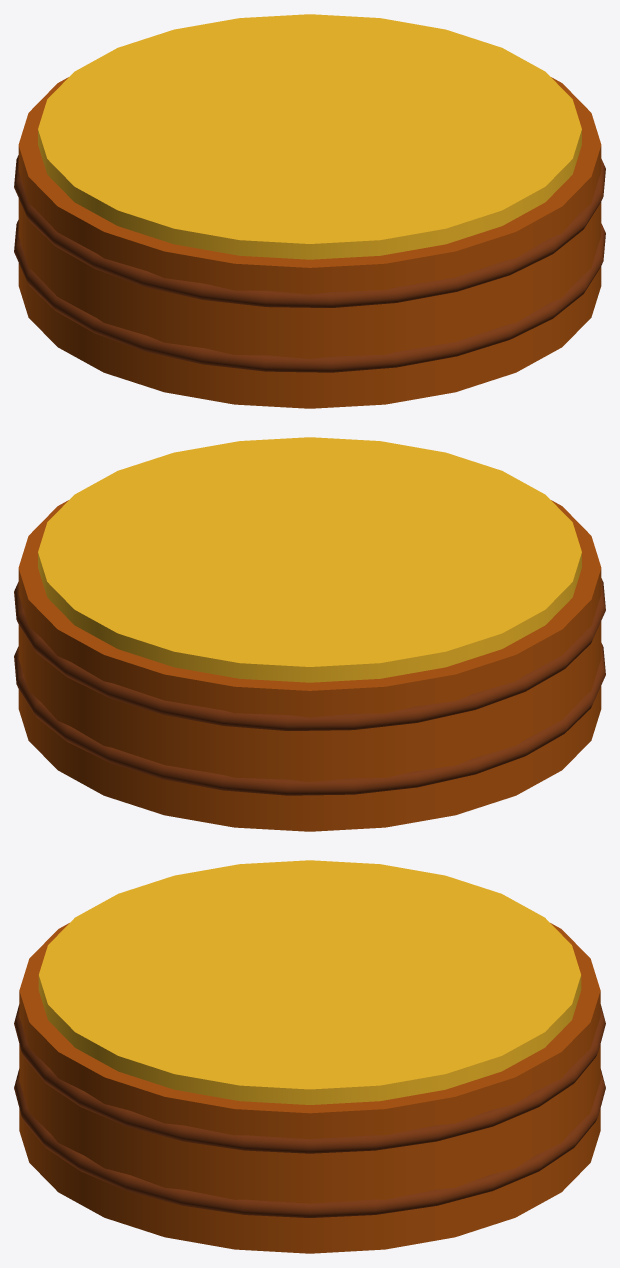
File: toy_barrel_round_top.glb
The picture shows the model from 3 angles, top to bottom: view 1: azimuth 30°, elevation 25°; view 2: azimuth 150°, elevation 25°; view 3: azimuth 270°, elevation 25°; orthographic projection.
Parts seen in each view (by area): view 1: solid_2, solid_1, solid_4, solid_3; view 2: solid_2, solid_1, solid_4, solid_3; view 3: solid_2, solid_1, solid_3, solid_4.
Part boxes in pixels (<box>): solid_2: <box>38,14,581,259</box>; solid_1: <box>18,77,601,408</box>; solid_4: <box>14,155,605,307</box>; solid_3: <box>14,220,605,372</box>; solid_2: <box>38,437,581,682</box>; solid_1: <box>18,500,601,831</box>; solid_4: <box>14,578,605,730</box>; solid_3: <box>14,643,605,795</box>; solid_2: <box>38,860,581,1104</box>; solid_1: <box>19,923,600,1253</box>; solid_3: <box>14,1069,605,1217</box>; solid_4: <box>14,1004,605,1153</box>.
Bounding box in the file's own units: 2.75 × 0.8 × 2.75.
